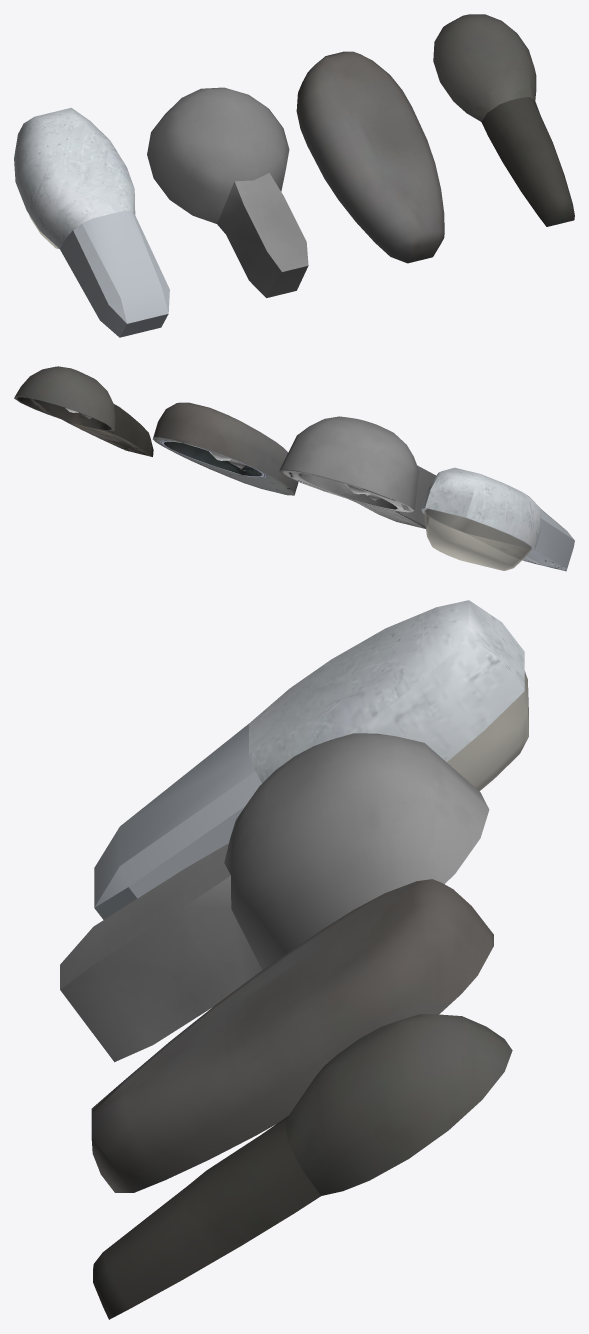
The model's file is lSoviet2.glb.
The picture shows the model from 3 angles, top to bottom: view 1: azimuth 30°, elevation 25°; view 2: azimuth 150°, elevation 25°; view 3: azimuth 270°, elevation 25°; orthographic projection. The views are drawn at different scales.
Bounding box in the file's own units: 7.32 × 2.19 × 2.97.
Materials: 6 (4 with a texture image).
